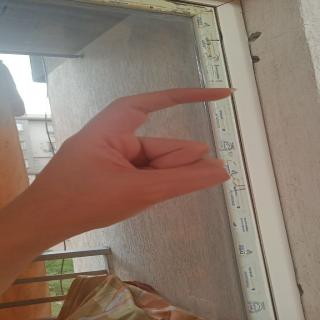RAA: (37, 78, 248, 224)
